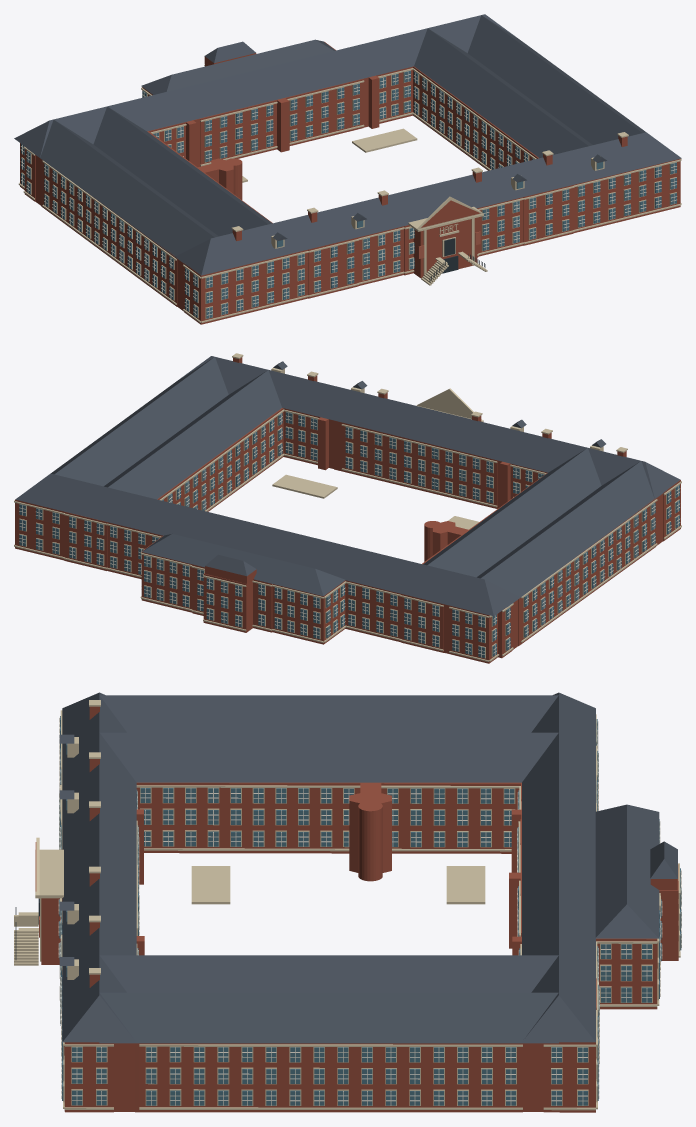
Rendered from hart-museum.glb.
3 views of the same model, one above another, from view 1: azimuth 30°, elevation 25°; view 2: azimuth 150°, elevation 25°; view 3: azimuth 270°, elevation 25° (orthographic). The views are drawn at different scales.
Parts seen in each view (by area): view 1: hart-museum; view 2: hart-museum; view 3: hart-museum.
Part boxes in pixels (<box>): hart-museum: <box>14,14,681,324</box>; hart-museum: <box>14,353,681,663</box>; hart-museum: <box>14,692,681,1112</box>.
Bounding box in the file's own units: 103 × 15.54 × 86.36.
